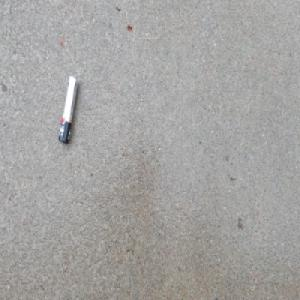Battery: (56, 75, 78, 146)
